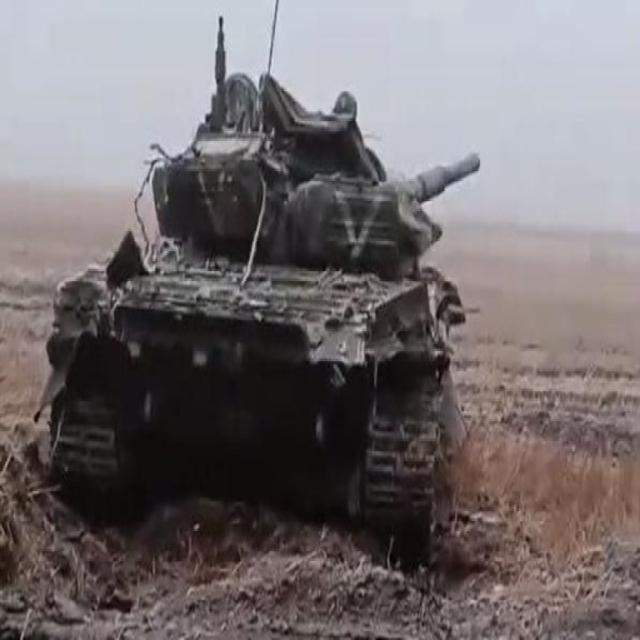TANK: (32, 73, 492, 589)
